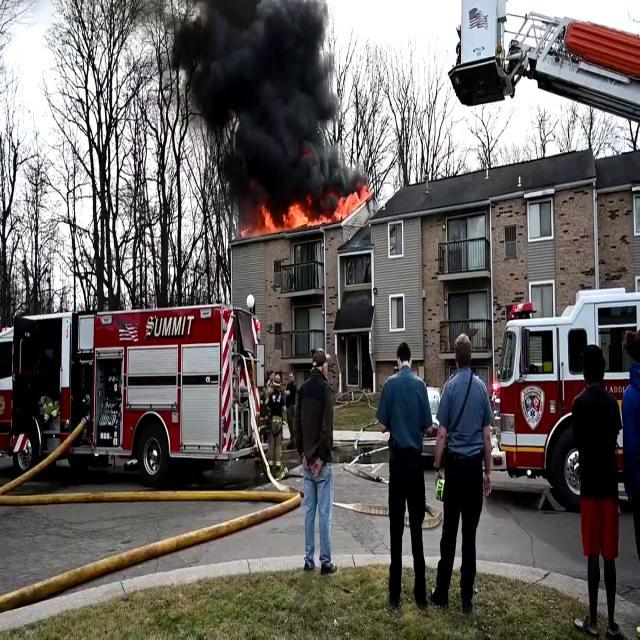Fire: (252, 190, 367, 234)
Smoke: (185, 0, 352, 198)
